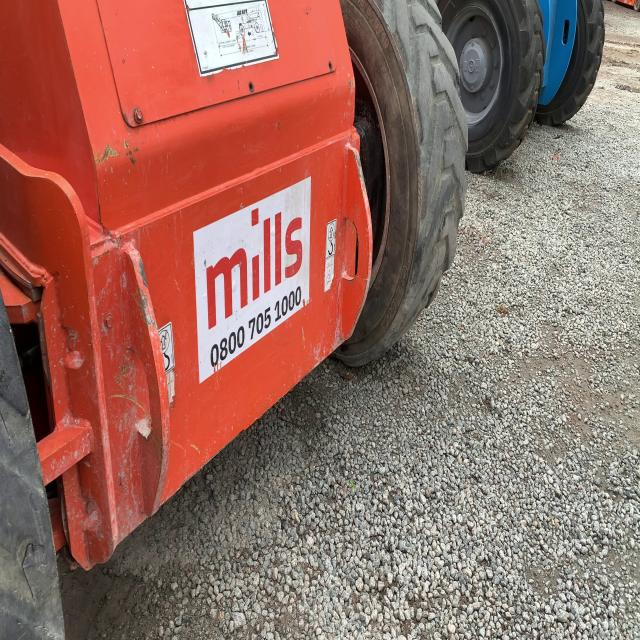Adesivos: (192, 173, 312, 387)
